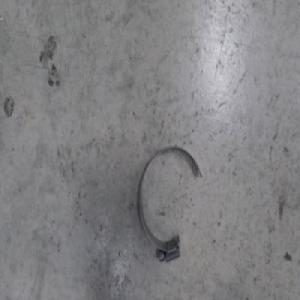AdjustableClamp: (137, 145, 202, 263)
